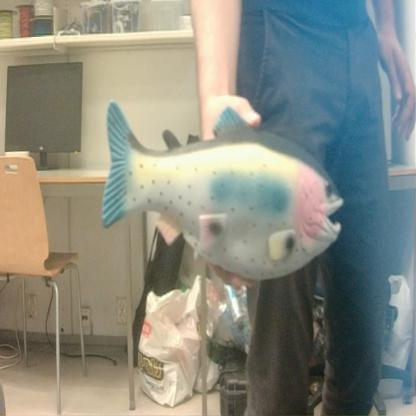rubberfish: (93, 99, 347, 282)
